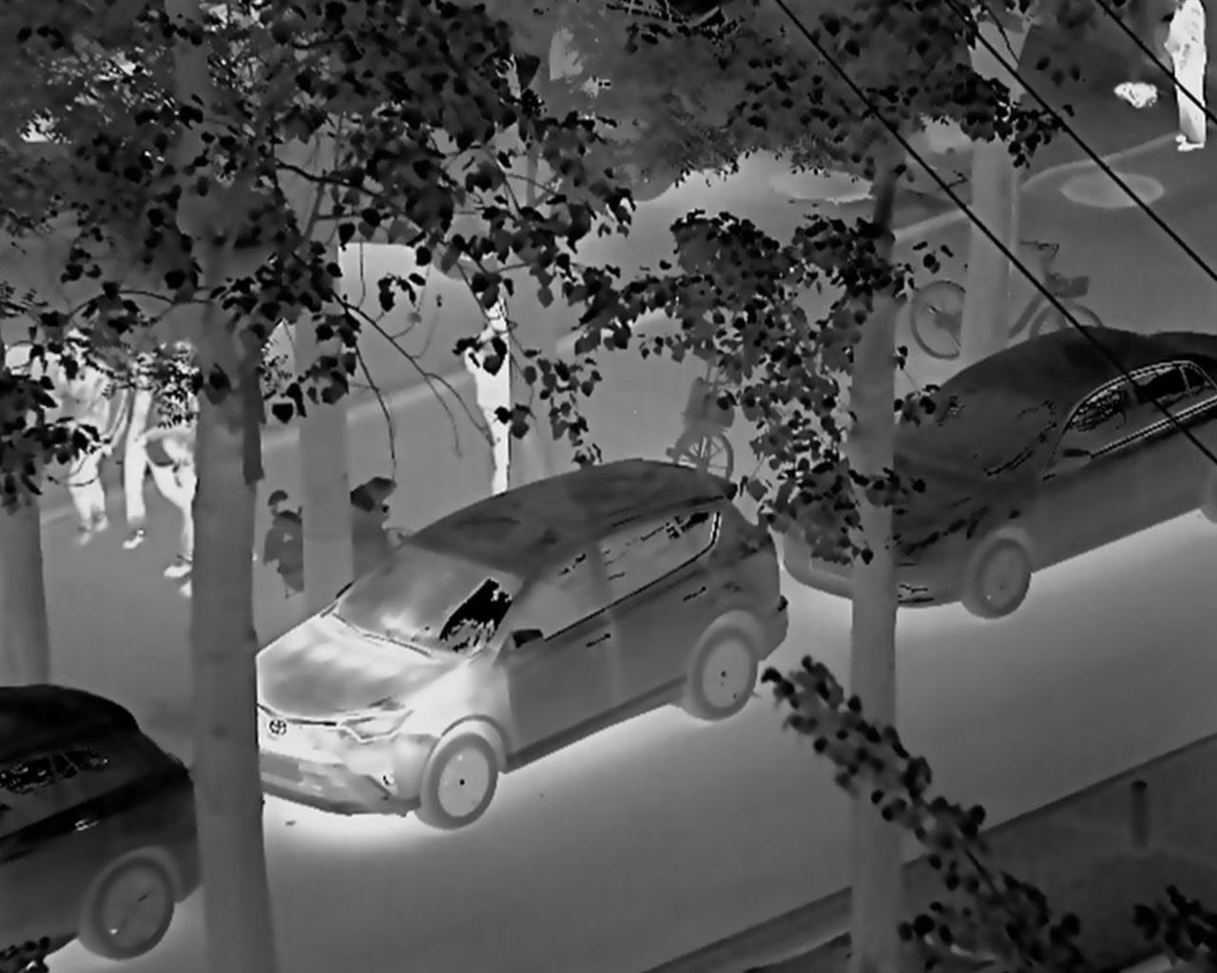person: (456, 275, 534, 488), (44, 327, 120, 537)
